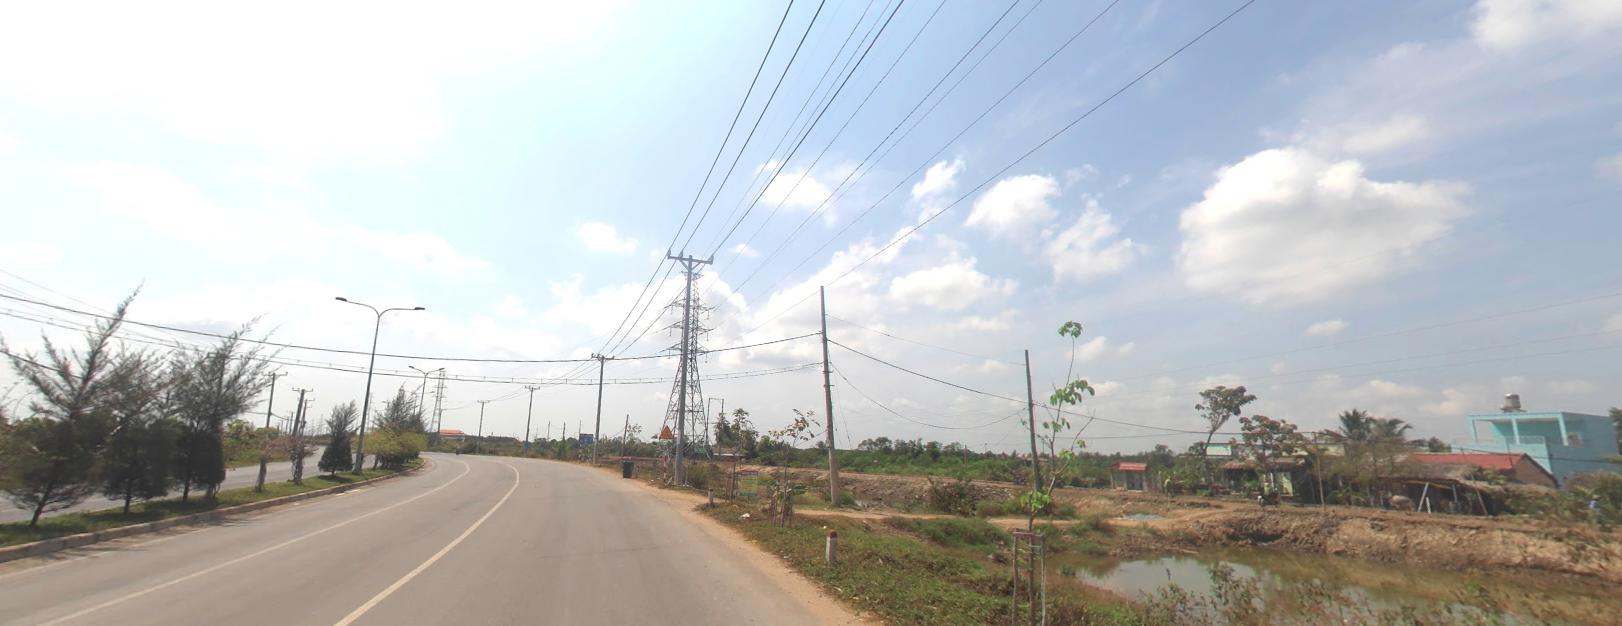Nguy hiem: (658, 424, 673, 437)
